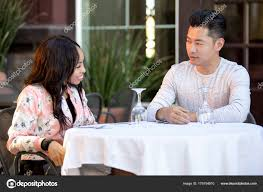asian_male: (183, 14, 227, 67)
